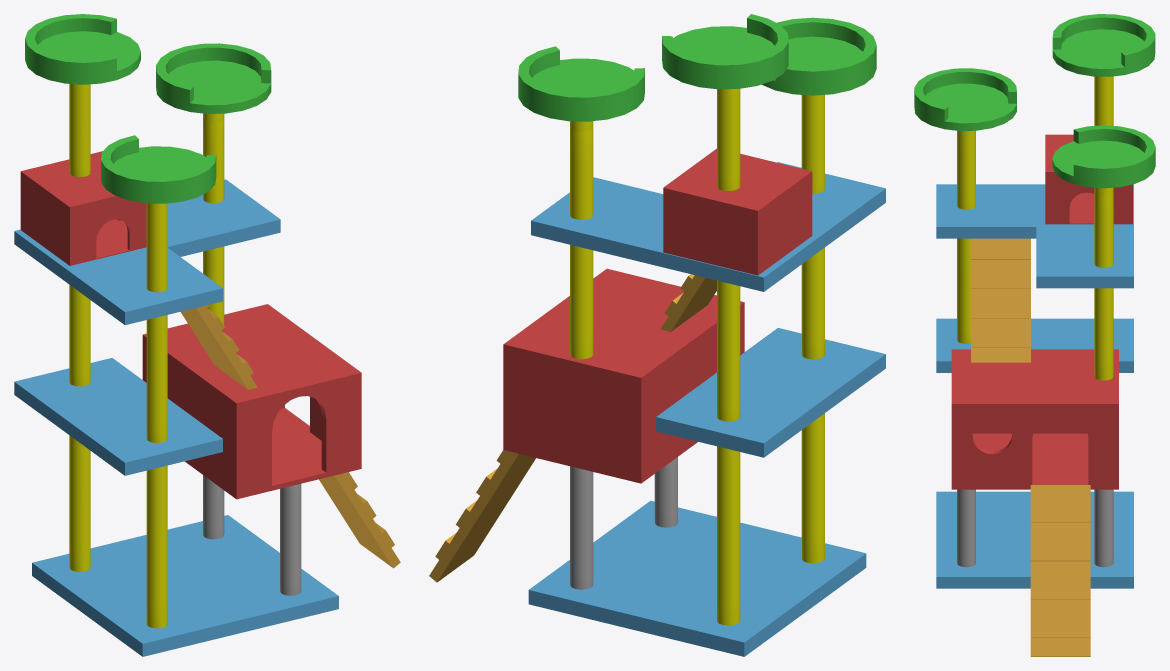
The model's file is CatPillar.fbx.
The picture shows the model from 3 angles, left to right: view 1: azimuth 30°, elevation 25°; view 2: azimuth 150°, elevation 25°; view 3: azimuth 270°, elevation 25°; orthographic projection. The views are drawn at different scales.
Visible parts, largest first — view 1: pCube42; view 2: pCube42; view 3: pCube42.
Boxes of the visible parts, box(x1,y1,x2,y2) form: pCube42: box(14, 14, 400, 656); pCube42: box(429, 14, 885, 656); pCube42: box(914, 14, 1155, 656).
Size of the model in its own units: 19.69 by 32.38 by 14.04.
